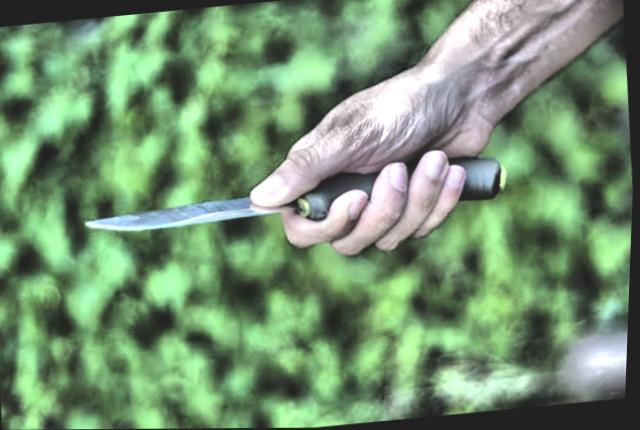knife: (60, 143, 473, 288)
